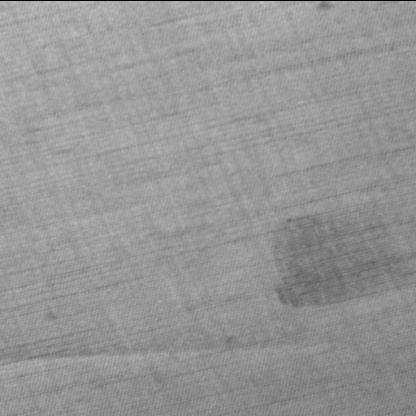oil spot: (268, 210, 415, 308)
